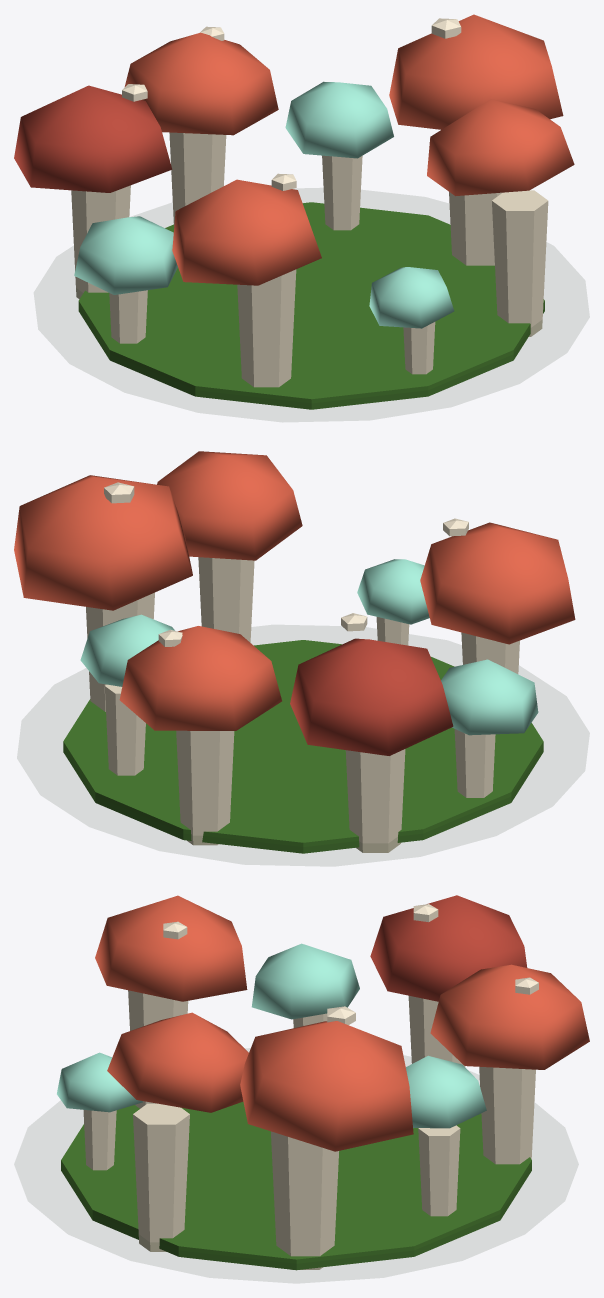
File: mushroom_ring.glb
3 views of the same model, one above another, from view 1: azimuth 30°, elevation 25°; view 2: azimuth 150°, elevation 25°; view 3: azimuth 270°, elevation 25° (orthographic). The views are drawn at different scales.
Visible parts, largest first — view 1: mushroom_ring; view 2: mushroom_ring; view 3: mushroom_ring.
Part boxes in pixels (<box>): mushroom_ring: <box>14,14,574,409</box>; mushroom_ring: <box>14,451,575,853</box>; mushroom_ring: <box>57,895,589,1270</box>.
Bounding box in the file's own units: 0.9987 × 0.4553 × 0.9787.
